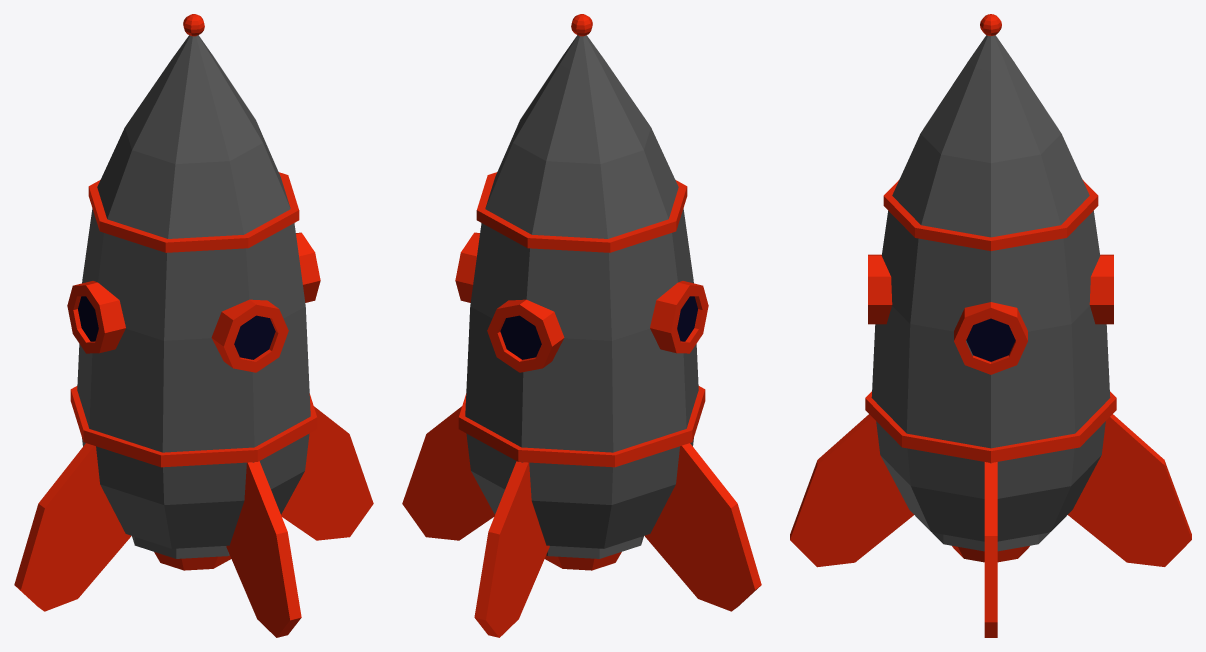
File: EnemyRocket.FBX
3 renders of one model, left to right at view 1: azimuth 30°, elevation 25°; view 2: azimuth 150°, elevation 25°; view 3: azimuth 270°, elevation 25°, orthographic.
Visible parts, largest first — view 1: Rocket_Ship_Circle_003; view 2: Rocket_Ship_Circle_003; view 3: Rocket_Ship_Circle_003.
Part boxes in pixels (x1,y1,x2,y2): Rocket_Ship_Circle_003: (14,14,373,637); Rocket_Ship_Circle_003: (402,14,761,637); Rocket_Ship_Circle_003: (790,14,1191,637).
Bounding box in the file's own units: 53.83 × 53.83 × 81.18.
